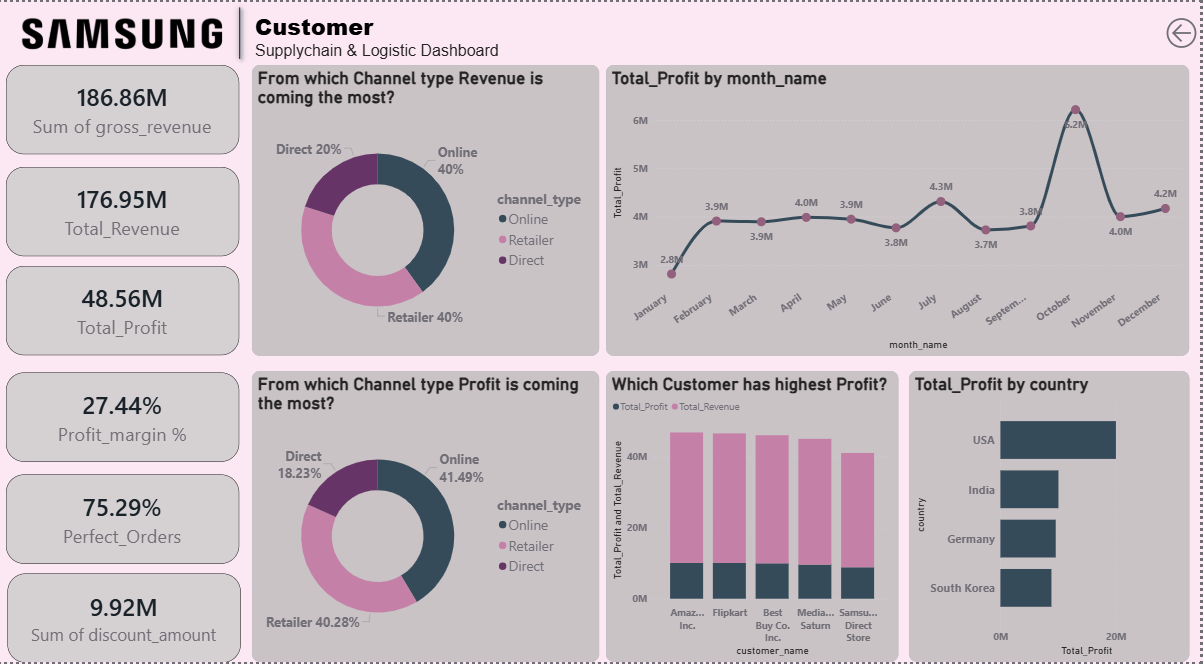

The page's visual inventory and layout, read from the dashboard file:
{"tool":"powerbi","page":{"name":"Customer","canvas":[2000,1100],"ordinal":4},"visuals":[{"type":"image","box":[9.9,0,371.1,103.9],"z":0},{"type":"shape","box":[346.3,0,103.9,103.9],"z":1000},{"type":"textbox","box":[420.5,7.4,677.8,96.5],"z":2000},{"type":"cardVisual","fields":{"Data":["Sum(fact_sales.gross_revenue)"]},"box":[9.9,103.9,388.4,148.4],"z":3000},{"type":"cardVisual","fields":{"Data":["dim_customer.Total_Revenue"]},"box":[9.9,274.6,388.4,148.4],"z":4000},{"type":"cardVisual","fields":{"Data":["Table.Total_Profit"]},"box":[9.9,440.3,388.4,148.4],"z":5000},{"type":"cardVisual","fields":{"Data":["Table.Profit_margin %"]},"box":[9.9,618.5,388.4,148.4],"z":6000},{"type":"cardVisual","fields":{"Data":["Table.Perfect_Orders"]},"box":[9.9,786.7,388.4,148.4],"z":7000},{"type":"cardVisual","fields":{"Data":["Sum(fact_sales.discount_amount)"]},"box":[12.4,952.4,388.4,148.4],"z":8000},{"type":"donutChart","title":"From which Channel type Revenue is coming the most?","fields":{"Category":["dim_customer.channel_type"],"Y":["CountNonNull(dim_customer.channel_type)"]},"box":[420.5,103.9,578.9,484.9],"z":9000},{"type":"lineChart","fields":{"Y":["Table.Total_Profit"],"Category":["dim_date.month_name"]},"box":[1009.3,103.9,972.2,484.9],"z":10000},{"type":"donutChart","title":"From which Channel type Profit is coming the most?","fields":{"Category":["dim_customer.channel_type"],"Y":["Table.Total_Profit"]},"box":[420.5,616,578.9,484.9],"z":11000},{"type":"columnChart","title":"Which Customer has highest Profit?","fields":{"Y":["Table.Total_Profit","dim_customer.Total_Revenue"],"Category":["dim_customer.customer_name"]},"box":[1009.3,616,487.3,484.9],"z":12000},{"type":"barChart","fields":{"Category":["dim_customer.country"],"Y":["Table.Total_Profit"]},"box":[1514,616,467.6,484.9],"z":13000},{"type":"actionButton","box":[1936.7,0,63.3,103.3],"z":14000}]}

Visuals, with their boxes in screenshot pixels (x1, y1, x2, y2), scaled from the page's 2000x1100 canvas onto the 1203x664 screenshot:
image: bbox(6, 0, 229, 63)
shape: bbox(208, 0, 271, 63)
textbox: bbox(253, 4, 661, 63)
cardVisual - Sum(fact_sales.gross_revenue): bbox(6, 63, 240, 152)
cardVisual - dim_customer.Total_Revenue: bbox(6, 166, 240, 255)
cardVisual - Table.Total_Profit: bbox(6, 266, 240, 355)
cardVisual - Table.Profit_margin %: bbox(6, 373, 240, 463)
cardVisual - Table.Perfect_Orders: bbox(6, 475, 240, 564)
cardVisual - Sum(fact_sales.discount_amount): bbox(7, 575, 241, 663)
"From which Channel type Revenue is coming the most?" donutChart: bbox(253, 63, 601, 355)
lineChart - Table.Total_Profit x dim_date.month_name: bbox(607, 63, 1192, 355)
"From which Channel type Profit is coming the most?" donutChart: bbox(253, 372, 601, 663)
"Which Customer has highest Profit?" columnChart: bbox(607, 372, 900, 663)
barChart - dim_customer.country x Table.Total_Profit: bbox(911, 372, 1192, 663)
actionButton: bbox(1165, 0, 1202, 62)
